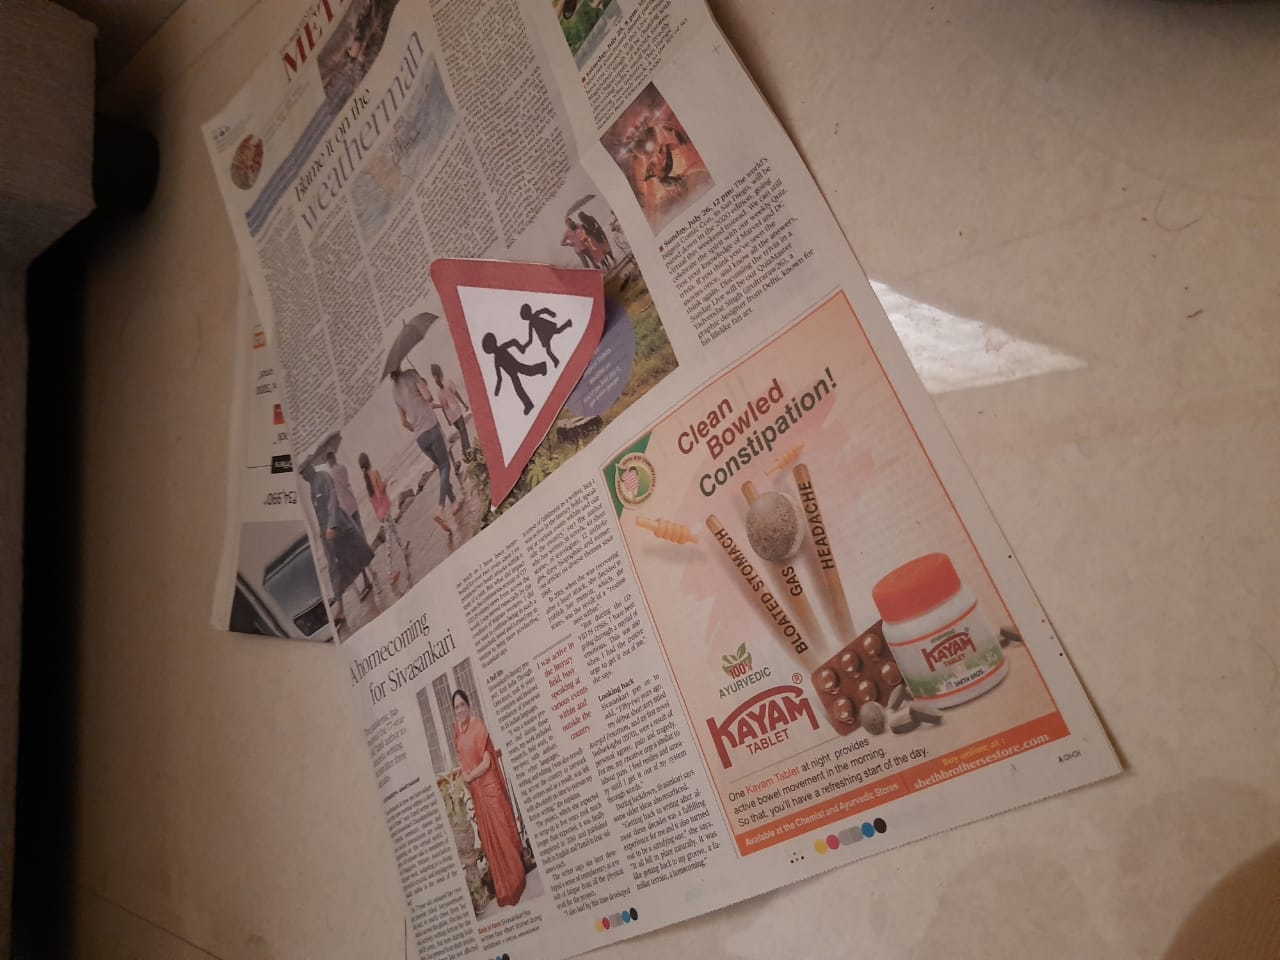SCHOOL ZONE: (419, 238, 618, 503)
